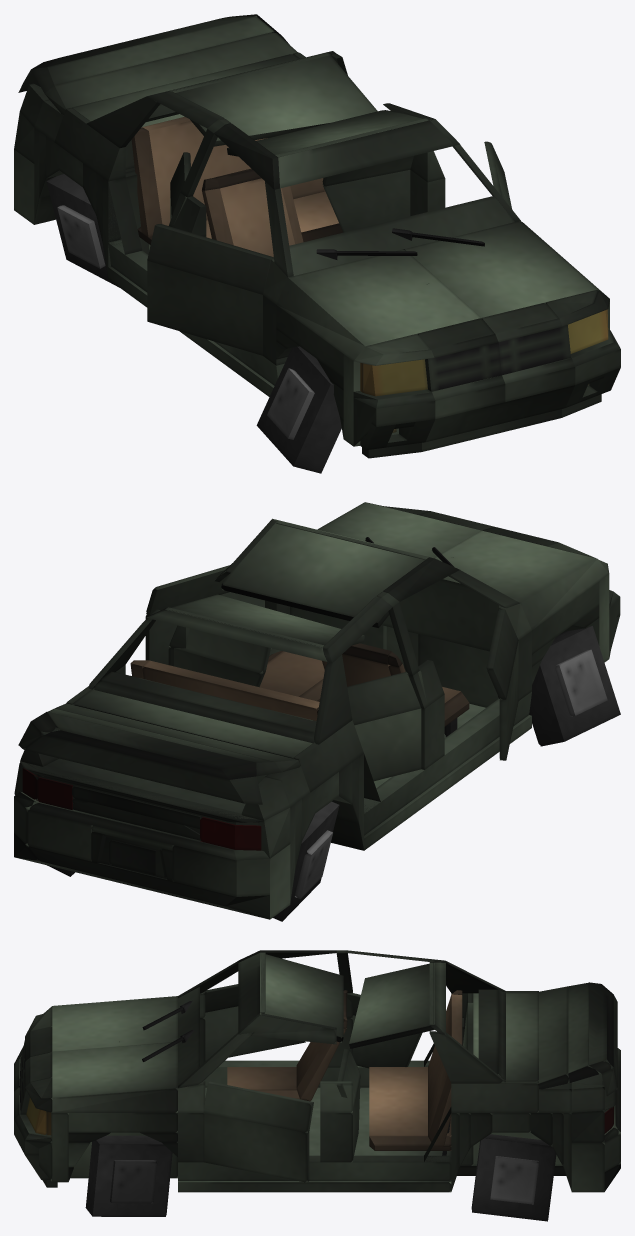
Rendered from wreckage3.obj.
3 views of the same model, one above another, from view 1: azimuth 30°, elevation 25°; view 2: azimuth 150°, elevation 25°; view 3: azimuth 270°, elevation 25° (orthographic). The views are drawn at different scales.
Parts seen in each view (by area): view 1: baseModel4, baseModel24, baseModel192, baseModel186, baseModel160, baseModel96, baseModel140, baseModel175, baseModel187, baseModel162, baseModel70, baseModel185 (+58 smaller); view 2: baseModel193, baseModel4, baseModel175, baseModel147, baseModel163, baseModel5, baseModel149, baseModel96, baseModel142, baseModel24, baseModel164, baseModel165 (+51 smaller); view 3: baseModel24, baseModel4, baseModel182, baseModel2, baseModel192, baseModel115, baseModel193, baseModel174, baseModel176, baseModel68, baseModel183, baseModel142 (+58 smaller).
Boxes of the visible parts, bbox=[...] form: baseModel4: bbox=[276, 249, 481, 361]; baseModel24: bbox=[404, 221, 609, 317]; baseModel192: bbox=[172, 53, 377, 146]; baseModel186: bbox=[147, 261, 262, 355]; baseModel160: bbox=[45, 32, 297, 114]; baseModel96: bbox=[289, 196, 514, 275]; baseModel140: bbox=[275, 118, 454, 188]; baseModel175: bbox=[256, 346, 341, 473]; baseModel187: bbox=[147, 224, 273, 294]; baseModel162: bbox=[31, 14, 281, 93]; baseModel70: bbox=[142, 117, 325, 225]; baseModel185: bbox=[323, 170, 410, 232]; baseModel193: bbox=[221, 518, 428, 627]; baseModel4: bbox=[433, 530, 608, 630]; baseModel175: bbox=[529, 625, 620, 746]; baseModel147: bbox=[18, 721, 262, 804]; baseModel163: bbox=[31, 712, 256, 779]; baseModel5: bbox=[364, 691, 531, 835]; baseModel149: bbox=[92, 671, 316, 743]; baseModel96: bbox=[381, 579, 501, 651]; baseModel142: bbox=[73, 687, 312, 758]; baseModel24: bbox=[317, 502, 480, 557]; baseModel164: bbox=[14, 833, 269, 919]; baseModel165: bbox=[172, 845, 269, 896]; baseModel24: bbox=[52, 1043, 177, 1112]; baseModel4: bbox=[52, 996, 177, 1051]; baseModel182: bbox=[203, 1113, 309, 1182]; baseModel2: bbox=[178, 1087, 451, 1192]; baseModel192: bbox=[349, 963, 434, 1048]; baseModel115: bbox=[178, 1155, 451, 1180]; baseModel193: bbox=[260, 953, 343, 1042]; baseModel174: bbox=[85, 1135, 172, 1216]; baseModel176: bbox=[471, 1134, 556, 1221]; baseModel68: bbox=[369, 1067, 451, 1145]; baseModel183: bbox=[203, 1081, 313, 1132]; baseModel142: bbox=[473, 993, 538, 1081].
Bounding box in the file's own units: 3.85 × 2.41 × 6.94.
Materials: 1 (1 with a texture image).
